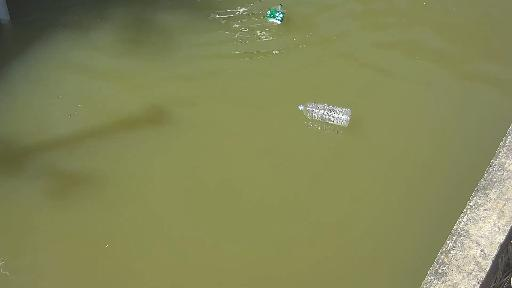plastic: (287, 92, 371, 142), (254, 0, 303, 28)
